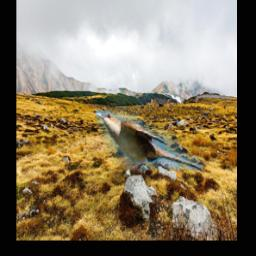Cuckoo: (95, 110, 203, 170)
